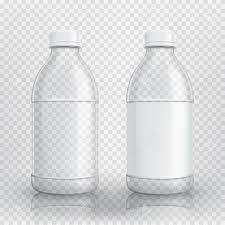available: (124, 31, 200, 202), (31, 30, 105, 199)
